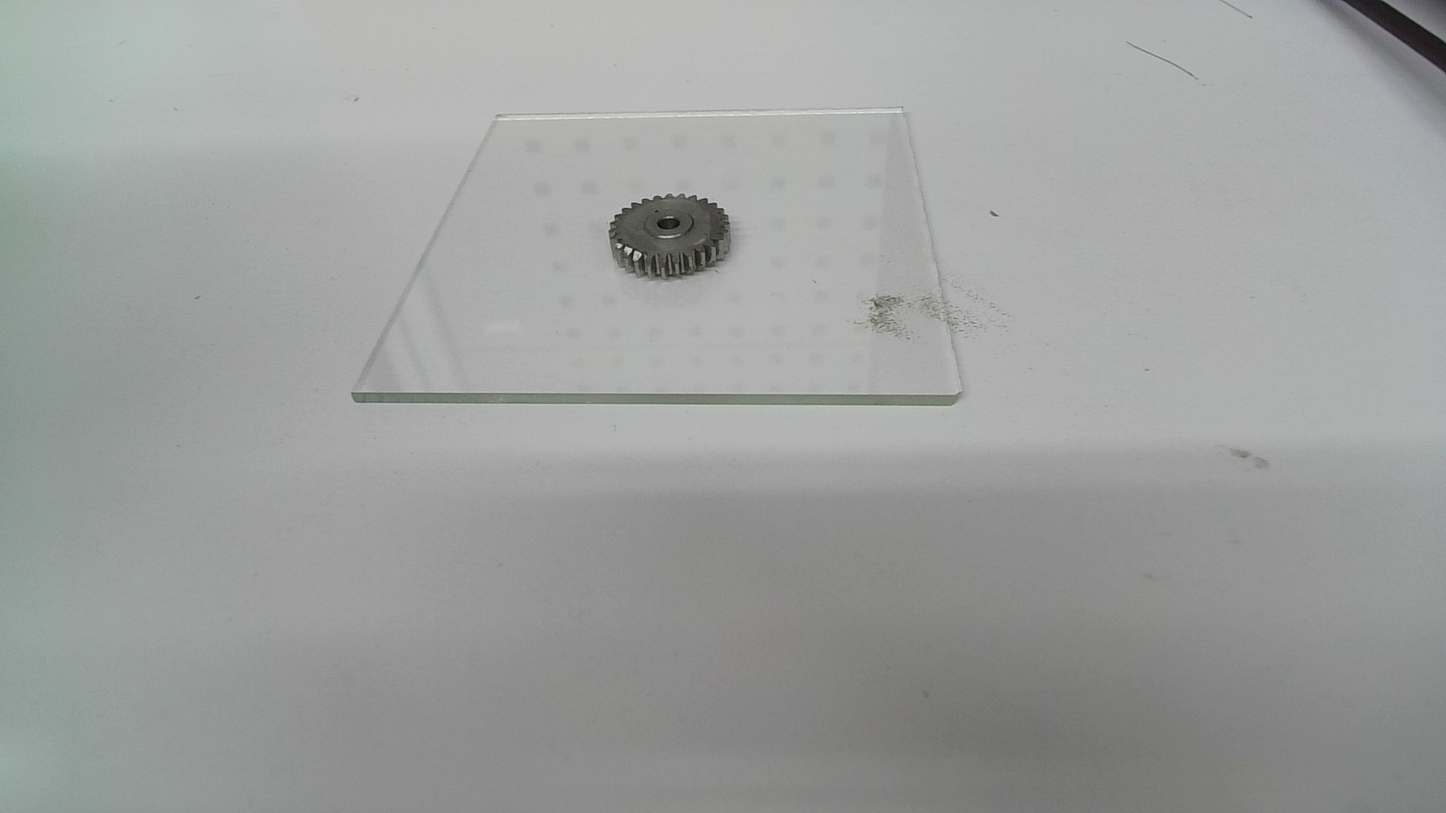gear: (607, 192, 735, 282)
